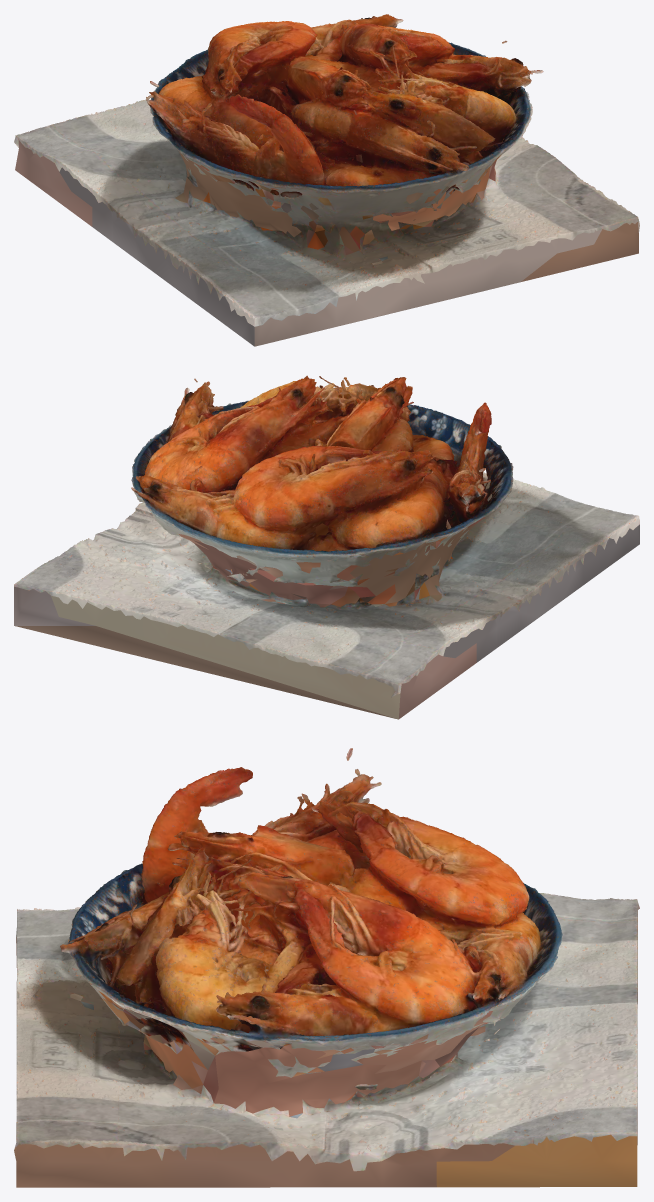
Rendered from shrimp-transformed.glb.
The picture shows the model from 3 angles, top to bottom: view 1: azimuth 30°, elevation 25°; view 2: azimuth 150°, elevation 25°; view 3: azimuth 270°, elevation 25°; orthographic projection. The views are drawn at different scales.
Visible parts, largest first — view 1: model_tex_u1_v1_0; view 2: model_tex_u1_v1_0; view 3: model_tex_u1_v1_0.
Part boxes in pixels (x1,y1,x2,y2): model_tex_u1_v1_0: (14,14,639,346); model_tex_u1_v1_0: (14,375,639,719); model_tex_u1_v1_0: (14,748,639,1187).
Bounding box in the file's own units: 0.1991 × 0.0884 × 0.217.
1 material, 1 textured.
